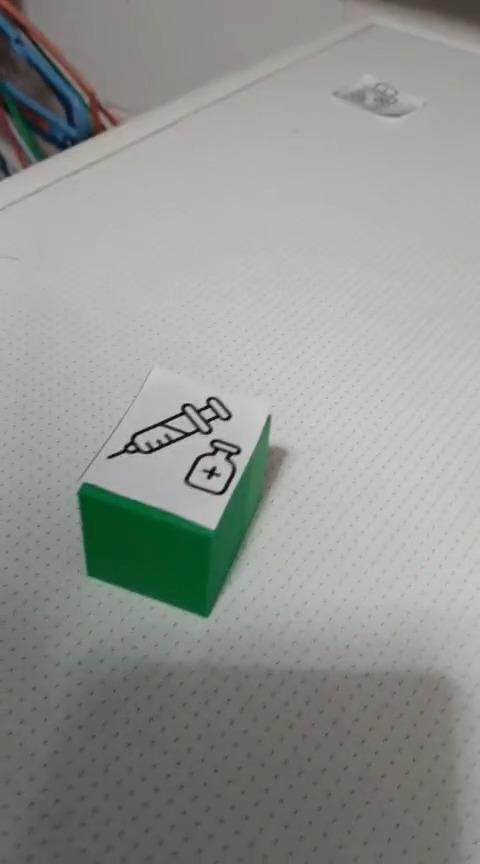antiseptic cream: (74, 363, 273, 618)
